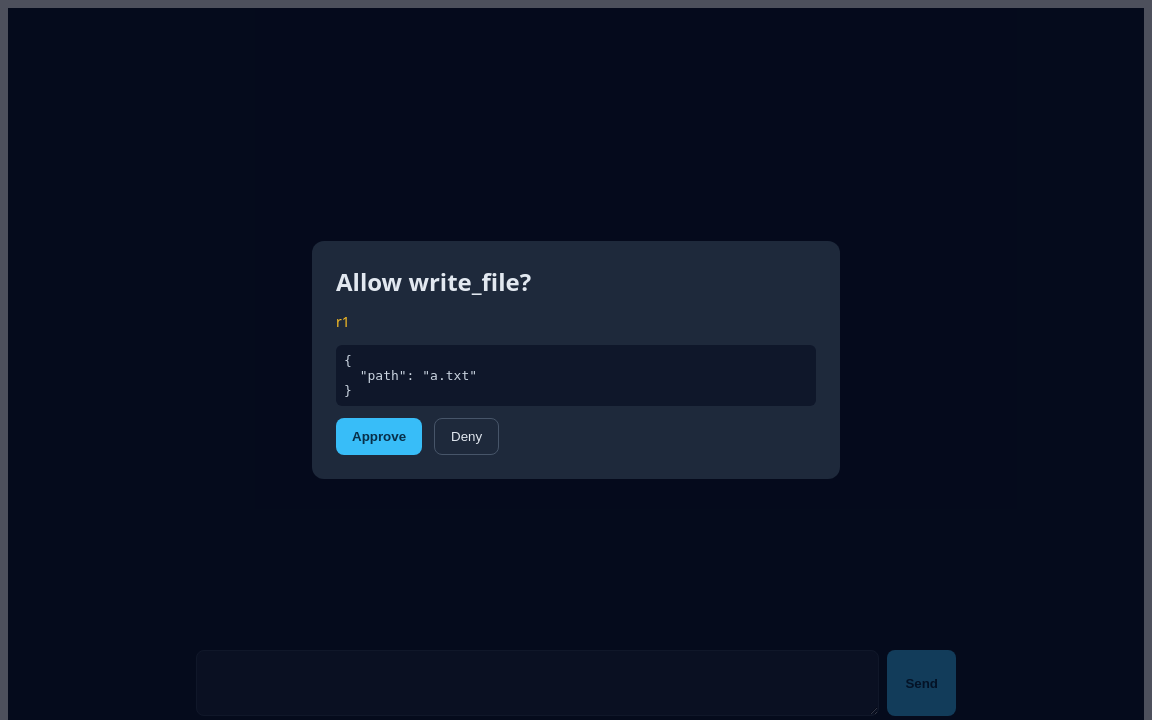
ChatView › queues a second confirm_request while one is open
The width and height of the screenshot is (1152, 720).
Expected: the heading "Allow write_file?" is shown, x1=336 y1=265 x2=531 y2=298
Expected: the text "read_file" is not shown
Click the button "Approve".
click(379, 436)  # box x1=336 y1=418 x2=422 y2=455
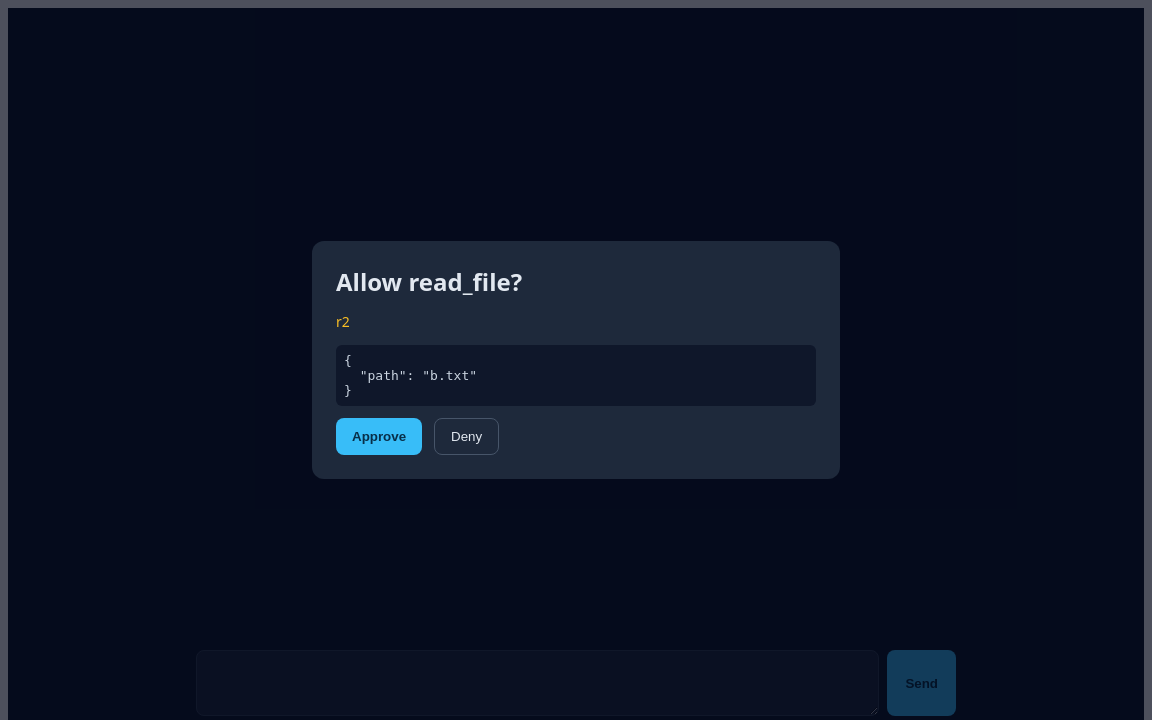
Now the heading "Allow read_file?" is shown, box x1=336 y1=265 x2=522 y2=298
Click the button "Deny".
click(467, 436)  # box x1=434 y1=418 x2=499 y2=455
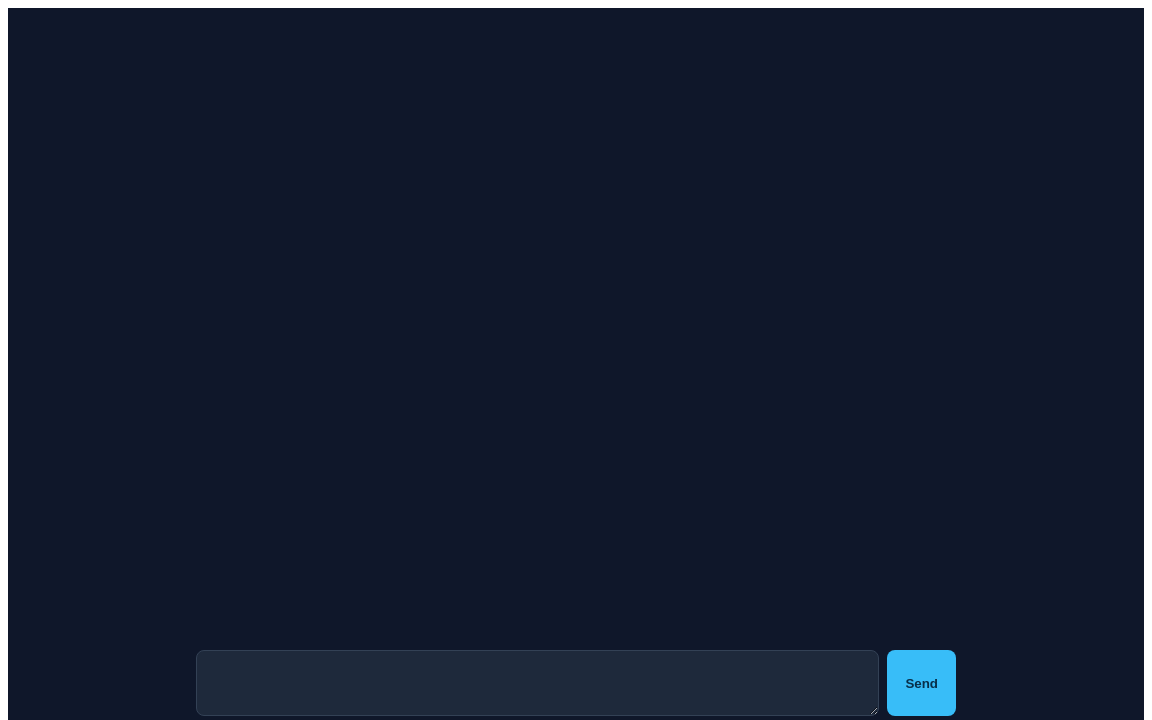
Now the button "Approve" is gone
